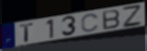1: (45, 18, 55, 40)
3: (60, 14, 80, 37)
B: (101, 9, 121, 31)
C: (81, 13, 100, 33)
T: (19, 22, 35, 43)
Z: (121, 4, 143, 29)
